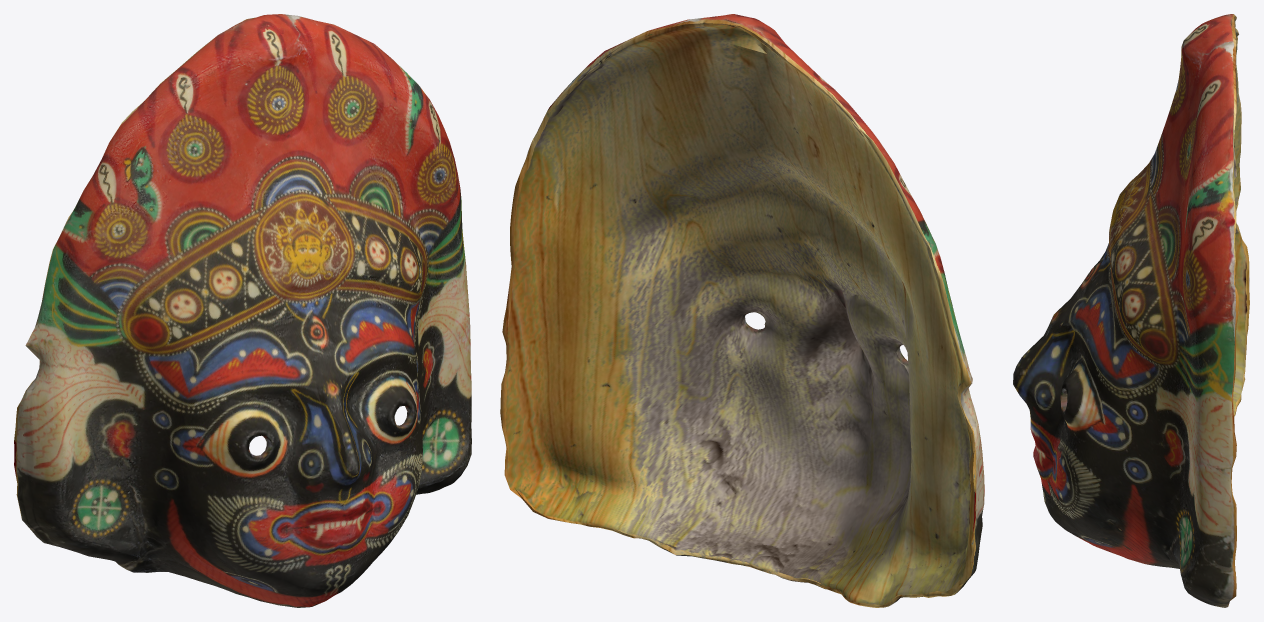
The picture shows the model from 3 angles, left to right: view 1: azimuth 30°, elevation 25°; view 2: azimuth 150°, elevation 25°; view 3: azimuth 270°, elevation 25°; orthographic projection. The views are drawn at different scales.
Visible parts, largest first — view 1: Geode; view 2: Geode; view 3: Geode.
Part boxes in pixels (x1,y1,x2,y2): Geode: (14, 14, 471, 607); Geode: (500, 14, 984, 607); Geode: (1013, 14, 1249, 607).
Size of the model in its own units: 34.52 by 40.04 by 16.08.
1 material, 1 textured.
